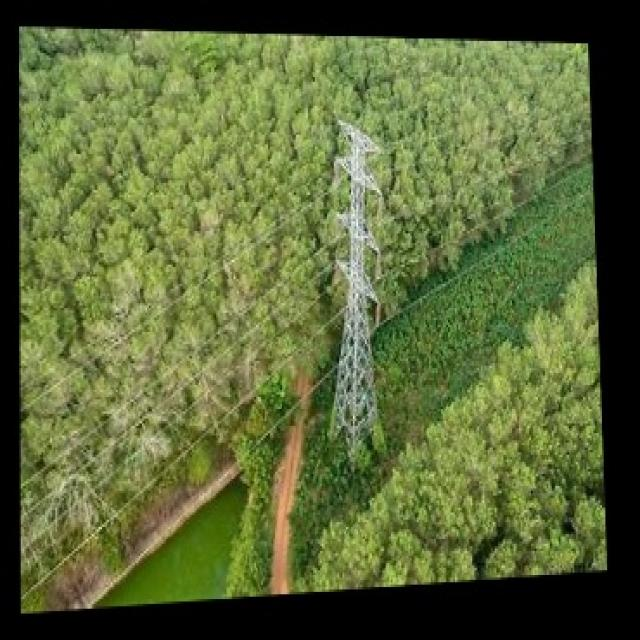utility poles: (320, 122, 407, 478)
